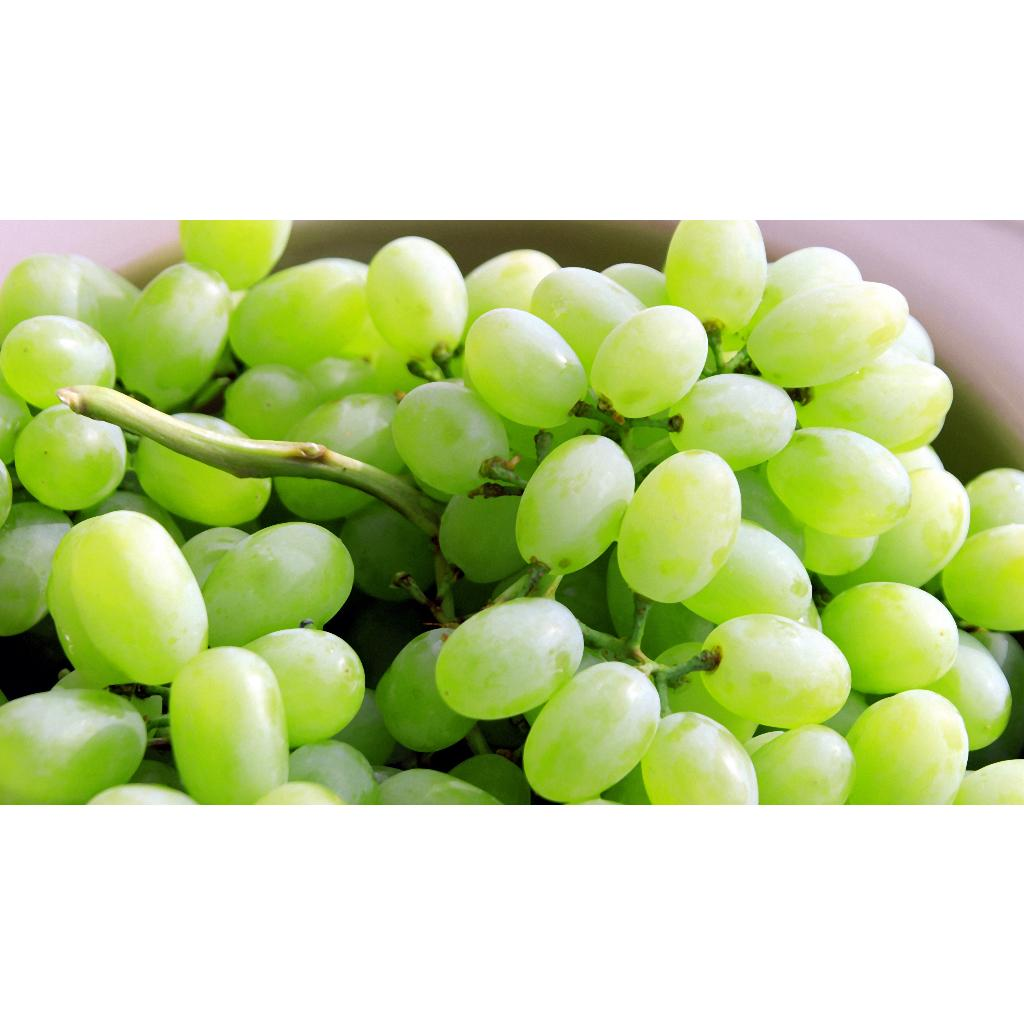grape: (58, 219, 954, 801), (0, 297, 1008, 803)
